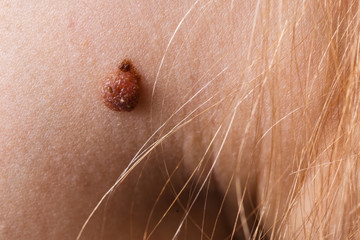melanoma: (74, 49, 157, 121)
